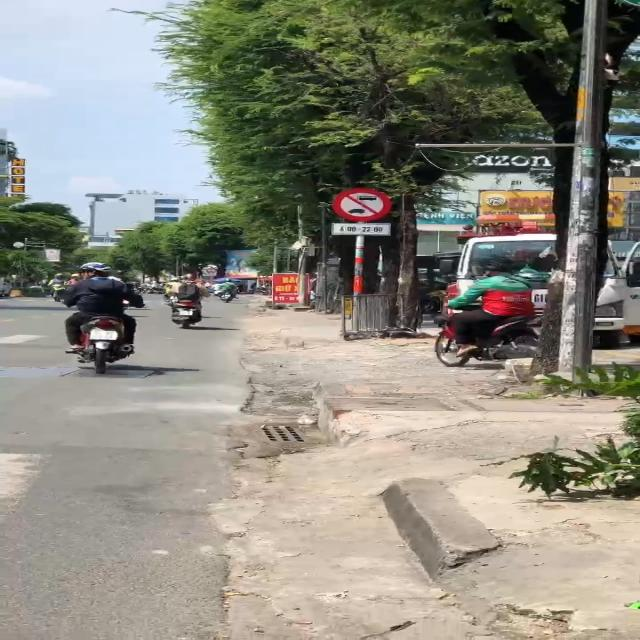Bien bao cam xe oto khach va xe oto tai: (331, 186, 393, 220)
